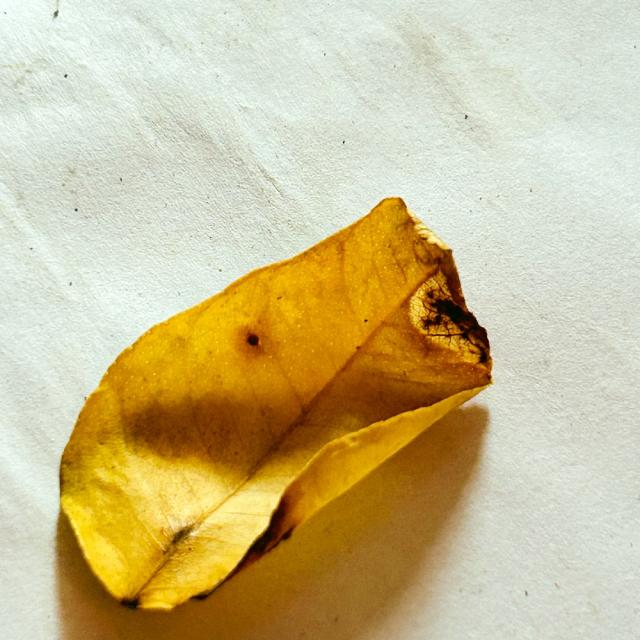DryLeaf_Lemon: (60, 198, 492, 609)
